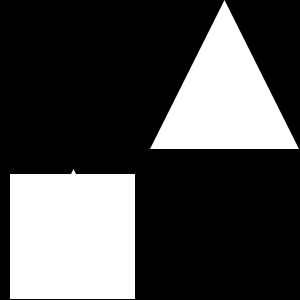circle: (10, 174, 135, 299), (68, 210, 83, 225)
triangle: (150, 0, 299, 149), (65, 169, 82, 186)
